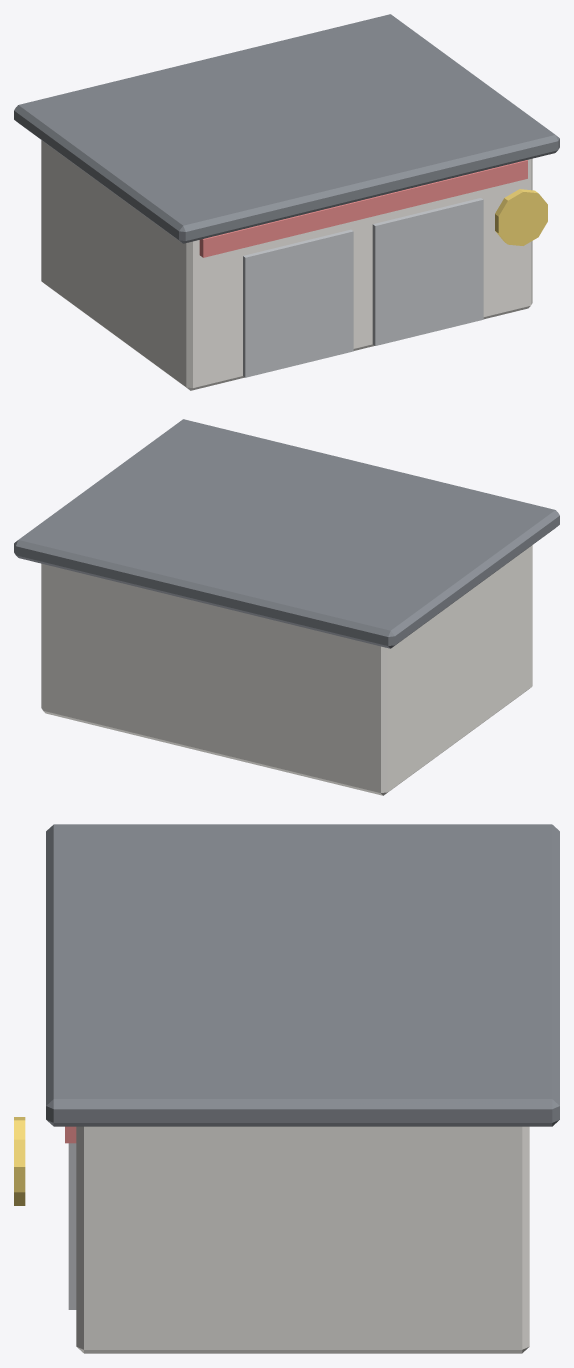
Rendered from Workshop.fbx.
3 renders of one model, top to bottom at view 1: azimuth 30°, elevation 25°; view 2: azimuth 150°, elevation 25°; view 3: azimuth 270°, elevation 25°, orthographic. The views are drawn at different scales.
Visible parts, largest first — view 1: Workshop; view 2: Workshop; view 3: Workshop.
Part boxes in pixels (x1,y1,x2,y2): Workshop: (14, 14, 559, 390); Workshop: (14, 419, 559, 795); Workshop: (14, 824, 559, 1353).
Size of the model in its own units: 1.76 by 0.78 by 1.44.
